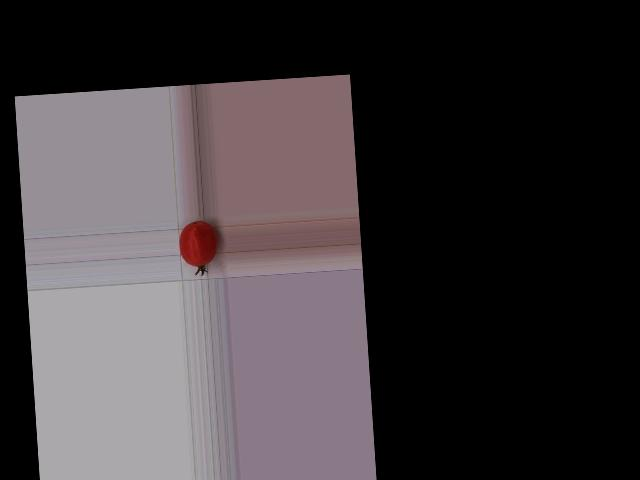tomato: (177, 219, 218, 267)
